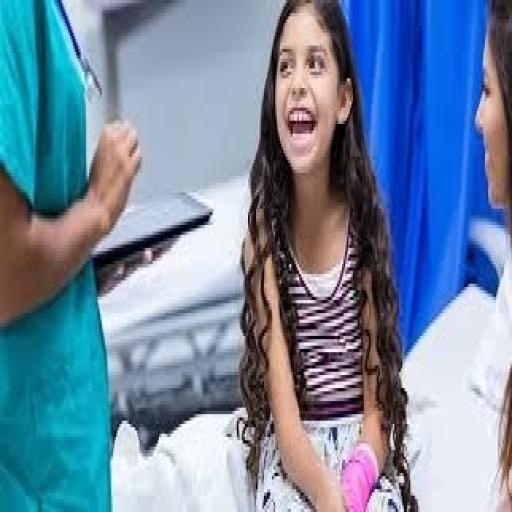laughing: (230, 0, 416, 505)
